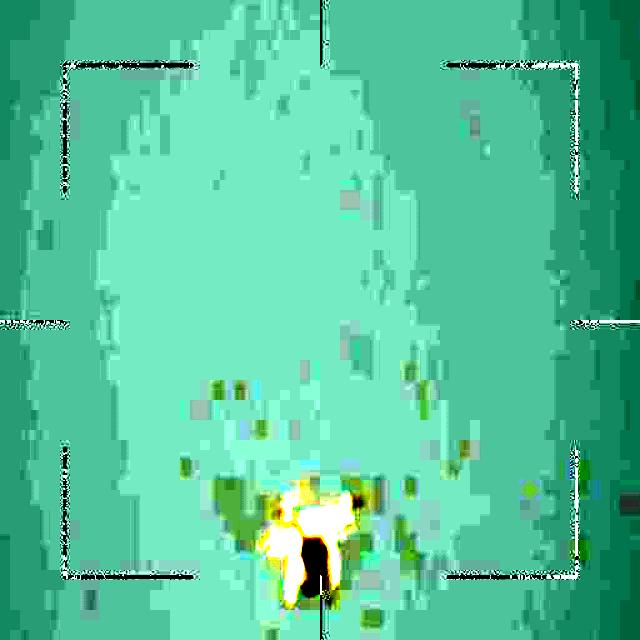bird: (258, 494, 365, 605)
